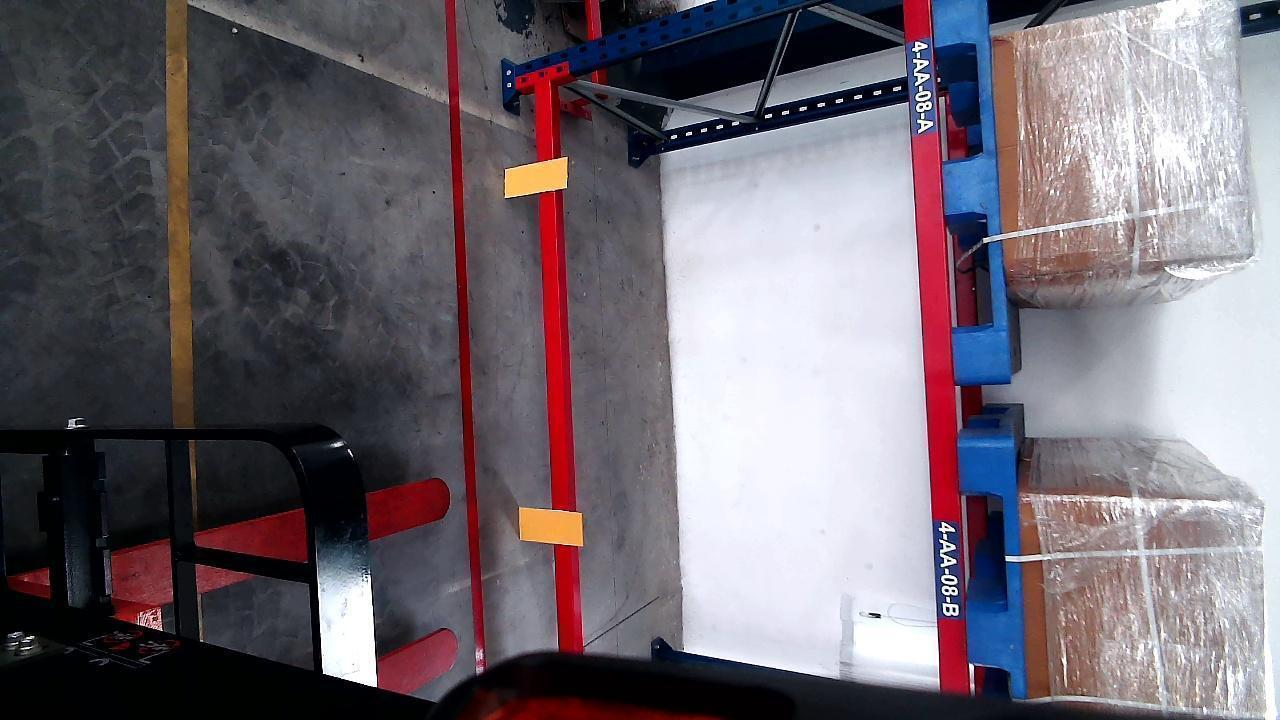red_line: (445, 0, 490, 670)
yellow_line: (166, 0, 194, 422)
